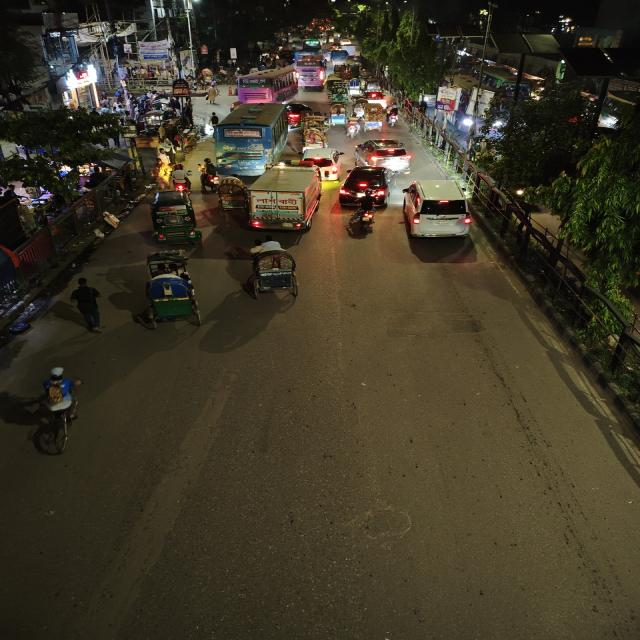bicycle: (23, 366, 92, 460)
bus: (211, 102, 294, 176), (234, 68, 301, 104), (293, 48, 329, 88)
car: (401, 177, 474, 243), (338, 165, 393, 205), (351, 138, 414, 170), (314, 150, 342, 182)
cng: (146, 190, 203, 256)
motorcycle: (347, 199, 380, 235), (196, 158, 220, 192), (170, 165, 193, 191), (382, 106, 402, 128), (346, 120, 364, 139)
pedestrian: (66, 276, 106, 334), (205, 85, 220, 105)
rickshaw: (241, 235, 306, 302), (140, 270, 207, 330), (214, 174, 249, 214), (300, 124, 330, 150), (327, 104, 350, 126), (326, 80, 349, 102), (346, 77, 363, 95), (350, 100, 367, 118)
truck: (246, 166, 325, 234)
